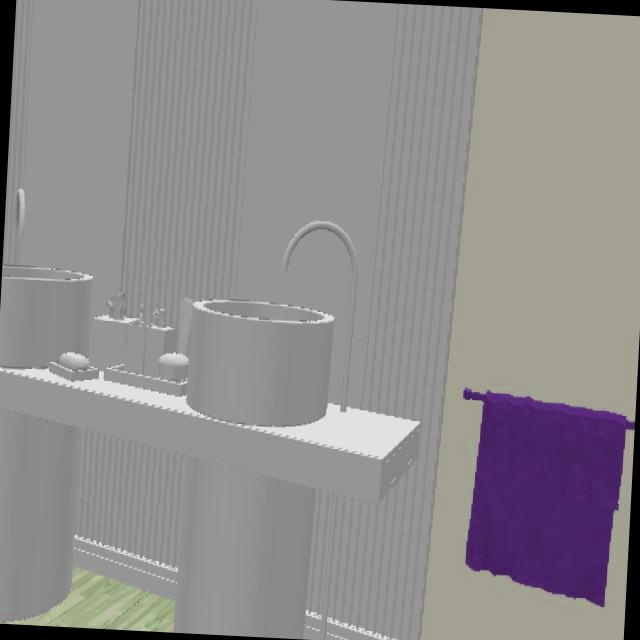washbasin: (187, 299, 333, 427), (0, 265, 93, 370)
